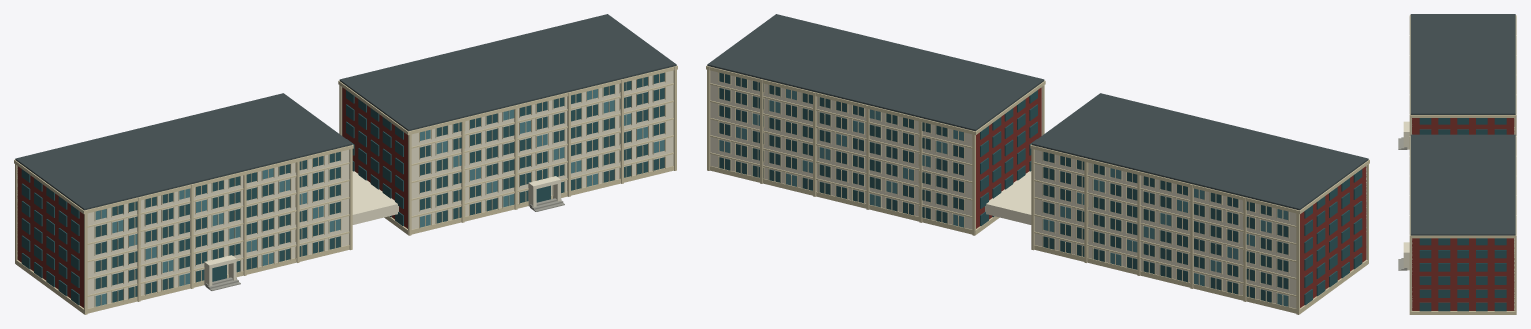
3 renders of one model, left to right at view 1: azimuth 30°, elevation 25°; view 2: azimuth 150°, elevation 25°; view 3: azimuth 270°, elevation 25°, orthographic. The views are drawn at different scales.
Visible parts, largest first — view 1: DormWing_-1_Roof, DormWing_1_Roof, DormWing_-1_Light_Fascia, DormWing_1_Light_Fascia, DormWing_-1_WindowGlass, DormWing_1_WindowGlass, DormWing_-1_WindowFrames, DormWing_1_WindowFrames, DormWing_-1_Structure, DormWing_-1_SideWindows, DormWing_1_Structure, DormWing_-1_FloorBands (+9 smaller); view 2: DormWing_-1_Roof, DormWing_1_Roof, DormWing_-1_Light_Fascia, DormWing_1_Light_Fascia, DormWing_-1_WindowGlass, DormWing_1_WindowGlass, DormWing_-1_WindowFrames, DormWing_1_WindowFrames, DormWing_-1_Structure, DormWing_-1_SideWindows, DormWing_-1_FloorBands, DormWing_1_Structure (+9 smaller); view 3: DormWing_1_Roof, DormWing_-1_Roof, DormWing_1_Structure, DormWing_1_SideWindows, DormWing_-1_Structure, DormWing_-1_SideWindows, DormWing_1_Cornice, DormWing_1_Pilasters, DormWing_-1_Cornice, DormWing_1_Plinth, DormWing_-1_Pilasters, DormWing_1_Light_Fascia (+3 smaller).
Boxes of the visible parts, left/top/right/bottom form: DormWing_-1_Roof: left=15, top=93, right=352, bottom=210; DormWing_1_Roof: left=339, top=14, right=676, bottom=131; DormWing_-1_Light_Fascia: left=17, top=149, right=349, bottom=308; DormWing_1_Light_Fascia: left=341, top=70, right=673, bottom=229; DormWing_-1_WindowGlass: left=95, top=152, right=340, bottom=306; DormWing_1_WindowGlass: left=420, top=72, right=664, bottom=227; DormWing_-1_WindowFrames: left=94, top=151, right=341, bottom=307; DormWing_1_WindowFrames: left=419, top=72, right=665, bottom=228; DormWing_-1_Structure: left=17, top=166, right=83, bottom=307; DormWing_-1_SideWindows: left=21, top=169, right=79, bottom=305; DormWing_1_Structure: left=342, top=87, right=407, bottom=228; DormWing_-1_FloorBands: left=87, top=162, right=349, bottom=296; DormWing_-1_Roof: left=1031, top=93, right=1368, bottom=210; DormWing_1_Roof: left=707, top=14, right=1044, bottom=131; DormWing_-1_Light_Fascia: left=1034, top=149, right=1366, bottom=308; DormWing_1_Light_Fascia: left=710, top=70, right=1042, bottom=229; DormWing_-1_WindowGlass: left=1043, top=152, right=1288, bottom=306; DormWing_1_WindowGlass: left=719, top=72, right=963, bottom=227; DormWing_-1_WindowFrames: left=1042, top=151, right=1289, bottom=307; DormWing_1_WindowFrames: left=718, top=72, right=964, bottom=228; DormWing_-1_Structure: left=1300, top=166, right=1366, bottom=307; DormWing_-1_SideWindows: left=1304, top=169, right=1362, bottom=305; DormWing_-1_FloorBands: left=1034, top=162, right=1366, bottom=296; DormWing_1_Structure: left=976, top=87, right=1041, bottom=228; DormWing_1_Roof: left=1410, top=134, right=1515, bottom=235; DormWing_-1_Roof: left=1410, top=14, right=1515, bottom=114; DormWing_1_Structure: left=1412, top=238, right=1514, bottom=310; DormWing_1_SideWindows: left=1419, top=238, right=1506, bottom=311; DormWing_-1_Structure: left=1412, top=118, right=1514, bottom=134; DormWing_-1_SideWindows: left=1419, top=118, right=1506, bottom=134; DormWing_1_Cornice: left=1410, top=135, right=1516, bottom=238; DormWing_1_Pilasters: left=1409, top=136, right=1516, bottom=314; DormWing_-1_Cornice: left=1410, top=15, right=1516, bottom=117; DormWing_1_Plinth: left=1410, top=311, right=1515, bottom=314; DormWing_-1_Pilasters: left=1409, top=15, right=1516, bottom=135; DormWing_1_Light_Fascia: left=1411, top=238, right=1514, bottom=310.
Bounding box in the file's own units: 122 × 20.73 × 27.56.
